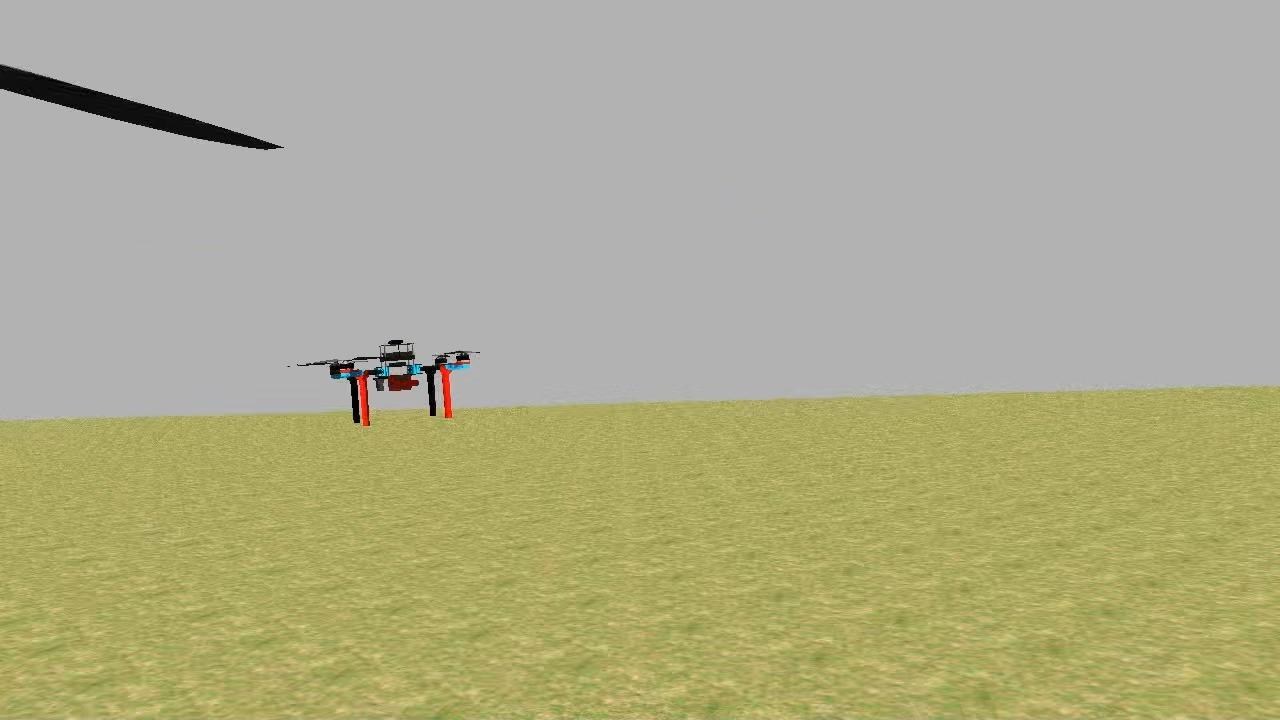UAV: (318, 332, 478, 437)
